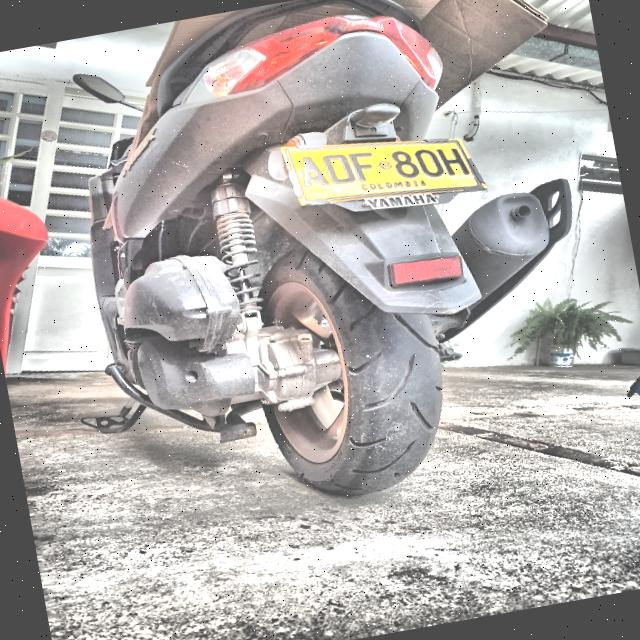plate: (282, 139, 485, 203)
